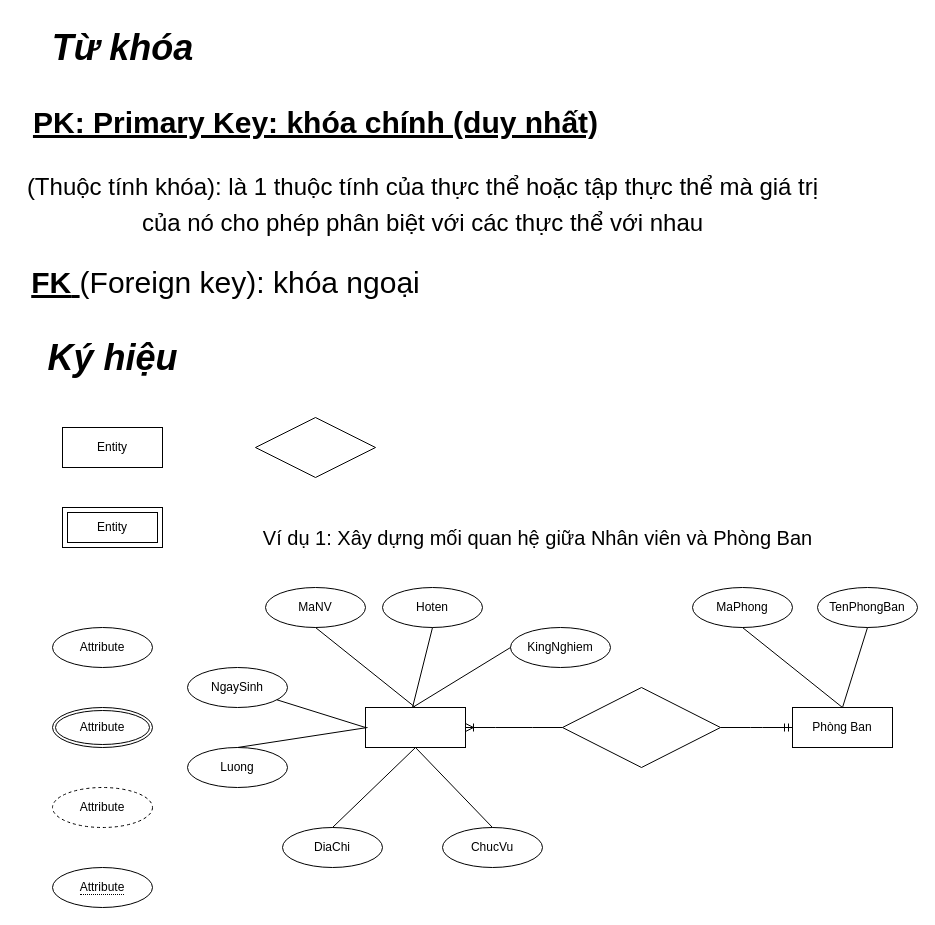
Image size: 935x925. Some labels were removed from this diagram. Here are the shapes that lost their labels. From the top down, the box of each, then its label:
(254, 416, 376, 478): Relationship
(364, 706, 466, 748): Nhân Viên
(562, 686, 720, 768): THUỘC VỀ
